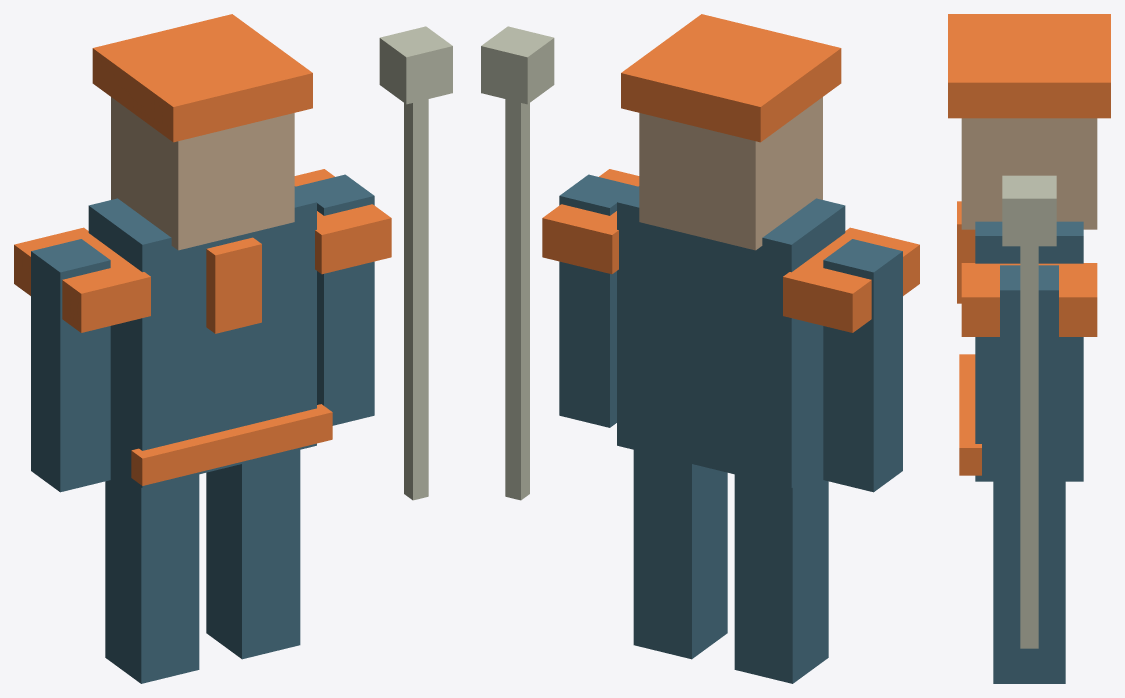
Rendered from 10_vexa_nullborne_mechanist_of_core.glb.
The picture shows the model from 3 angles, left to right: view 1: azimuth 30°, elevation 25°; view 2: azimuth 150°, elevation 25°; view 3: azimuth 270°, elevation 25°; orthographic projection.
Parts seen in each view (by area): view 1: Vexa Nullborne, Mechanist of Core; view 2: Vexa Nullborne, Mechanist of Core; view 3: Vexa Nullborne, Mechanist of Core.
Boxes of the visible parts, box(x1,y1,x2,y2) form: Vexa Nullborne, Mechanist of Core: box(14, 14, 452, 683); Vexa Nullborne, Mechanist of Core: box(481, 14, 919, 683); Vexa Nullborne, Mechanist of Core: box(948, 14, 1110, 683).
Size of the model in its own units: 1.11 by 1.6 by 0.3952.
